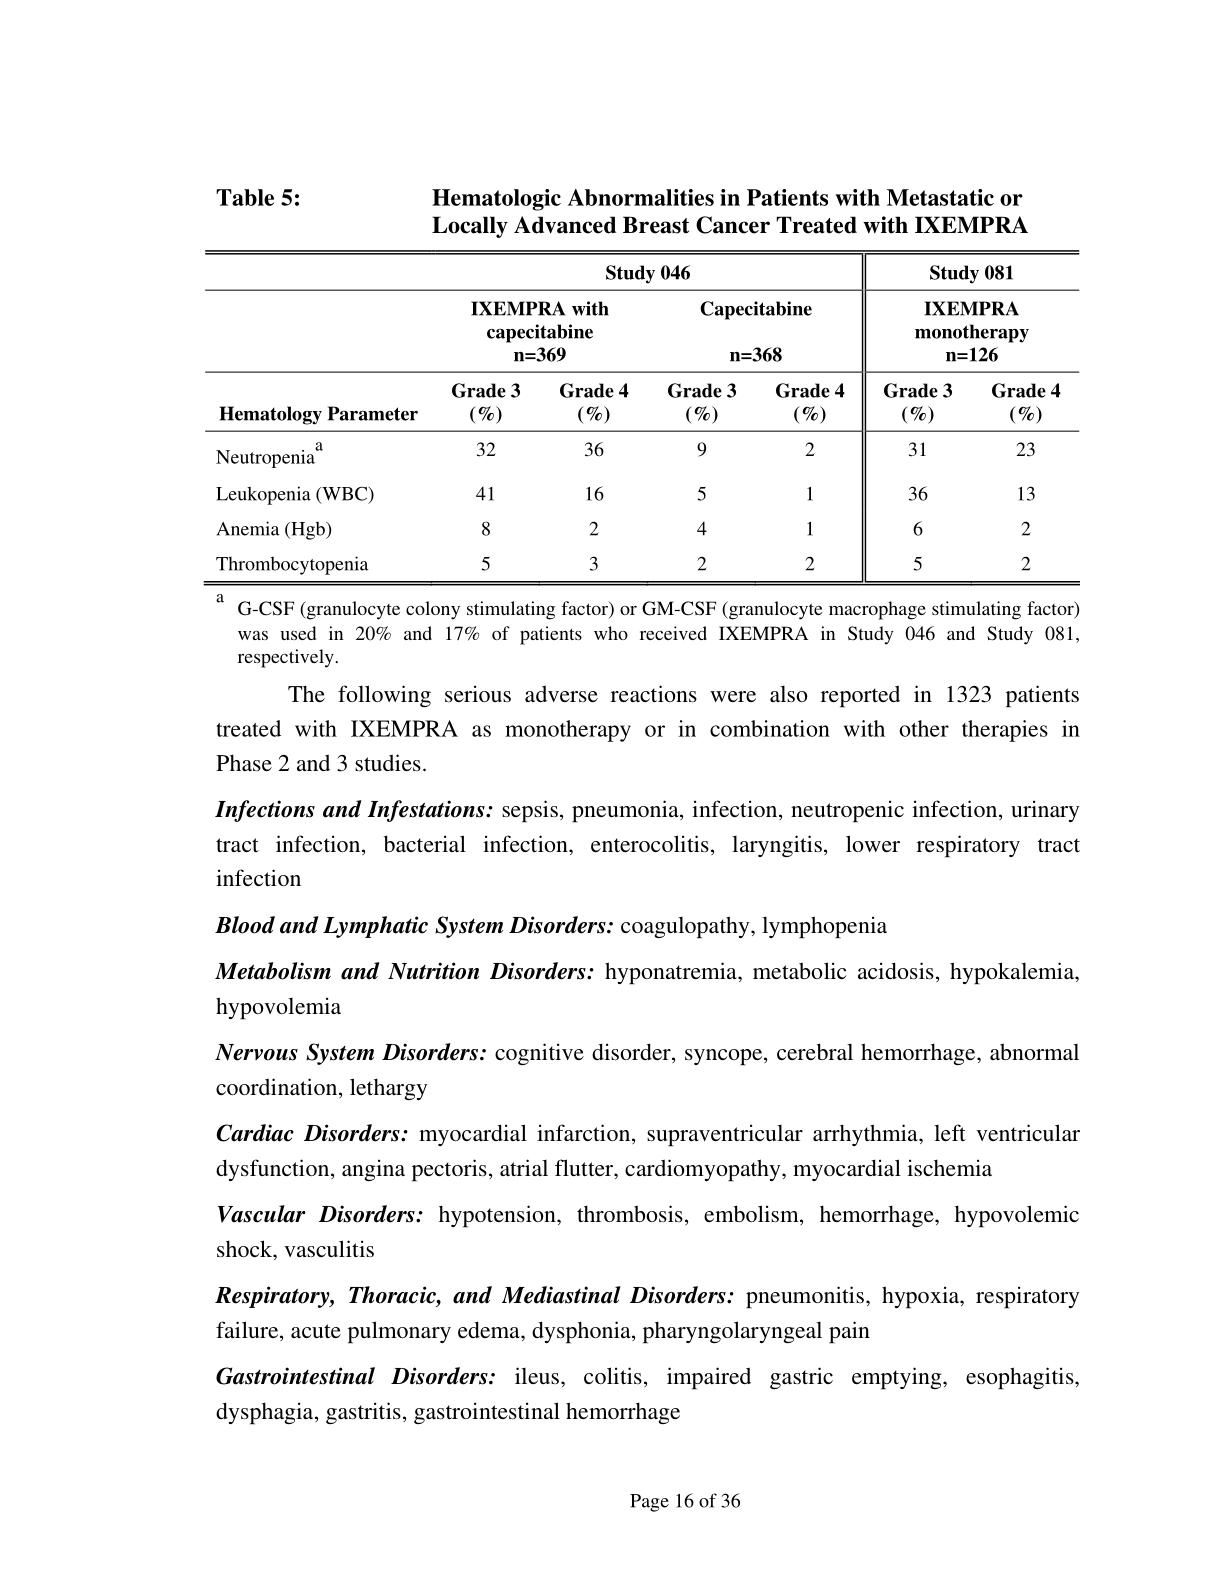partial_lined_merged_cells: (201, 246, 1084, 588)
